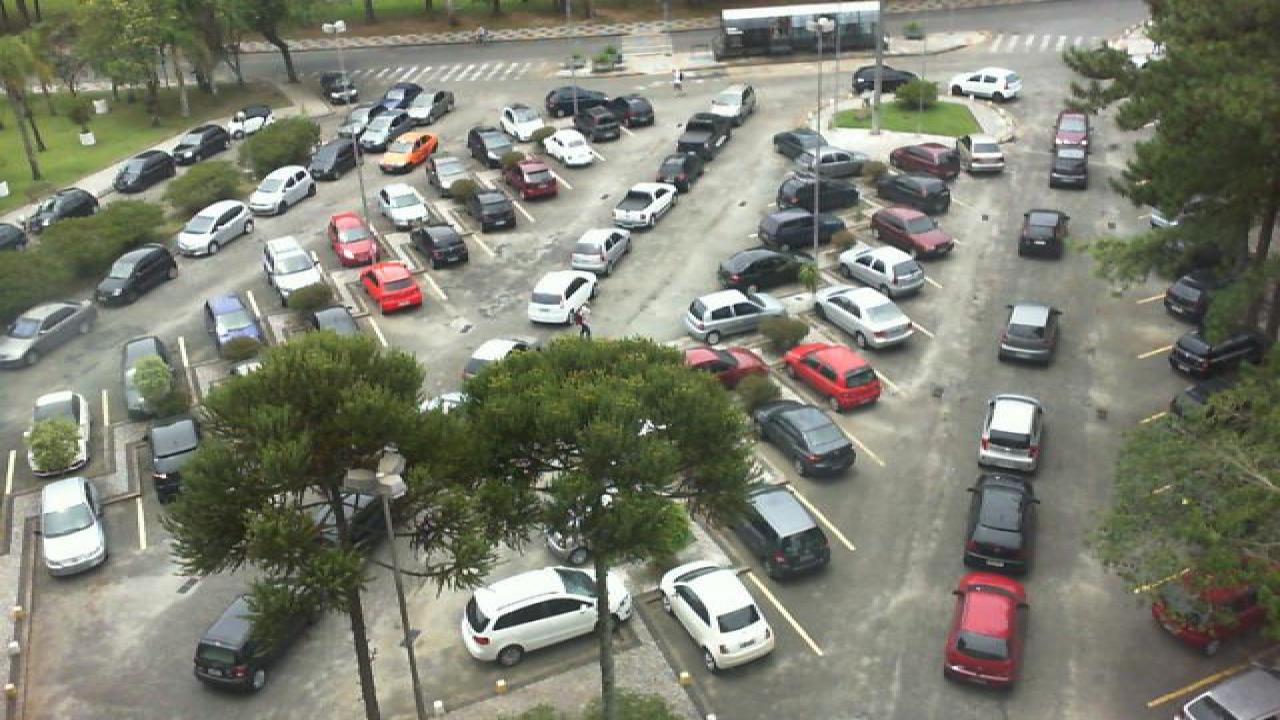Car: (458, 564, 636, 667), (658, 559, 776, 673), (944, 572, 1030, 690), (730, 485, 832, 578), (1146, 576, 1256, 657), (752, 398, 858, 480), (962, 472, 1038, 572), (34, 475, 108, 575), (780, 342, 882, 413), (814, 285, 920, 351), (0, 299, 94, 369), (832, 243, 930, 303), (22, 390, 90, 476), (976, 391, 1044, 474), (684, 287, 776, 346), (142, 419, 204, 505), (94, 246, 178, 308), (192, 630, 272, 695), (1168, 329, 1260, 384), (772, 127, 868, 178), (758, 207, 860, 254), (176, 199, 256, 257), (718, 247, 808, 297), (682, 344, 770, 394), (526, 269, 602, 326), (870, 206, 956, 256), (998, 302, 1062, 366), (118, 335, 170, 412), (244, 164, 316, 215), (462, 335, 532, 387), (610, 180, 680, 230), (566, 227, 636, 276), (260, 235, 322, 290), (780, 176, 874, 212), (202, 292, 264, 346), (360, 260, 424, 312), (878, 173, 956, 215), (288, 282, 348, 334), (410, 221, 470, 271), (890, 141, 968, 179), (1014, 207, 1068, 260), (328, 210, 380, 264), (112, 152, 178, 194), (372, 182, 430, 228), (376, 132, 440, 173), (950, 66, 1022, 102), (542, 126, 602, 169), (656, 148, 712, 194), (308, 138, 366, 182), (500, 158, 558, 202), (1166, 271, 1212, 326), (464, 188, 518, 233), (850, 63, 920, 97), (170, 123, 228, 162), (424, 156, 476, 196), (706, 84, 756, 124), (466, 126, 516, 165), (498, 107, 550, 144), (572, 104, 622, 142), (542, 86, 608, 114), (682, 121, 730, 158), (398, 105, 448, 140), (354, 114, 402, 150), (1050, 146, 1090, 189), (370, 84, 420, 118), (606, 94, 656, 128), (966, 134, 1006, 176), (226, 107, 274, 141), (320, 70, 360, 107), (1052, 112, 1090, 150), (412, 82, 456, 112)
